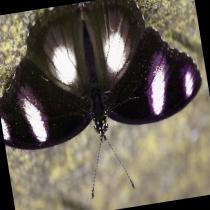butterfly: (0, 0, 203, 150)
